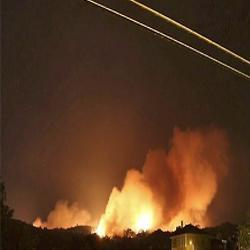fire: (133, 203, 159, 230), (98, 221, 106, 239)
